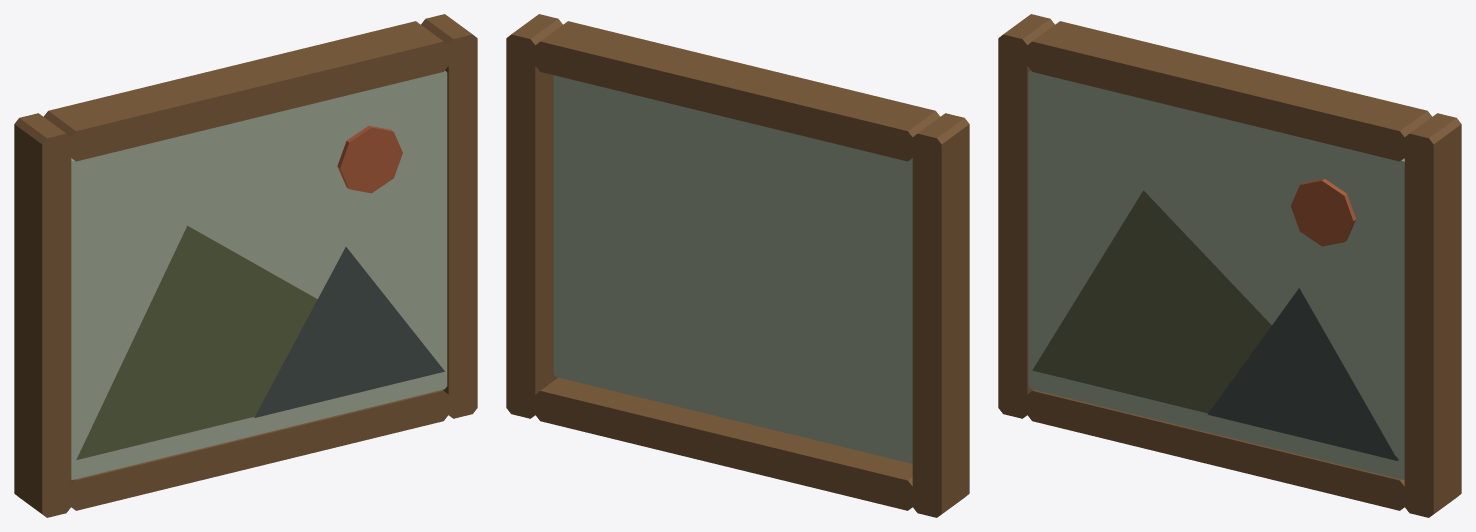
The model's file is Painting.gltf.
3 renders of one model, left to right at view 1: azimuth 30°, elevation 25°; view 2: azimuth 150°, elevation 25°; view 3: azimuth 330°, elevation 25°, orthographic.
Visible parts, largest first — view 1: Painting; view 2: Painting; view 3: Painting.
Boxes of the visible parts, box(x1,y1,x2,y2) form: Painting: box(14, 14, 477, 517); Painting: box(506, 14, 969, 517); Painting: box(998, 14, 1461, 517).
Bounding box in the file's own units: 0.18 × 0.15 × 0.022.
